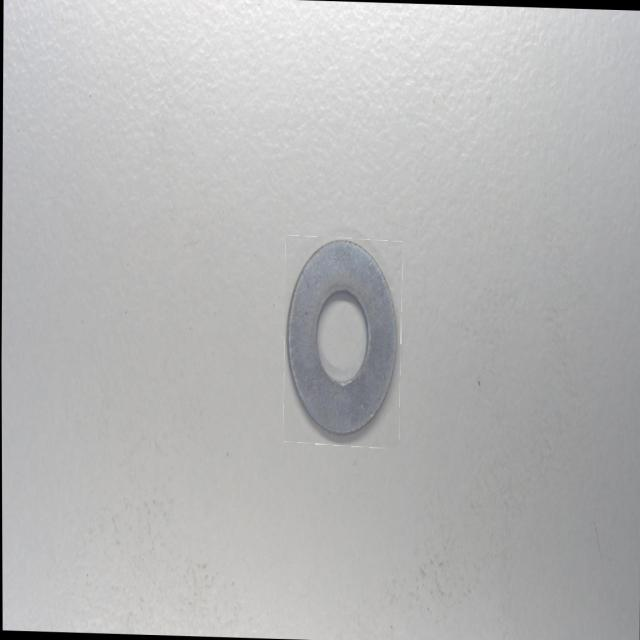washer: (287, 239, 403, 446)
